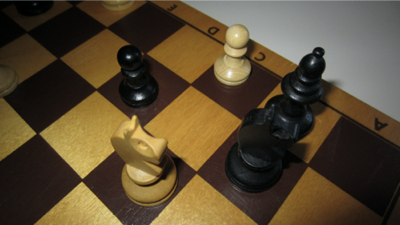black-bishop: (264, 47, 327, 141)
black-knight: (225, 105, 300, 194)
black-pawn: (115, 43, 161, 109)
white-knight: (109, 116, 181, 208)
white-pawn: (213, 24, 253, 87)
